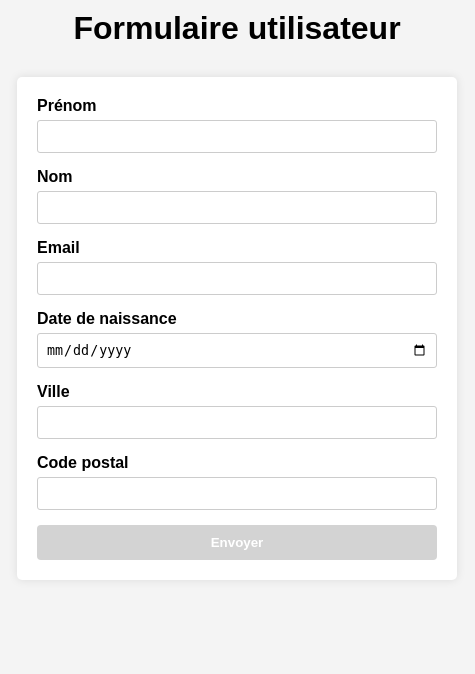
Integration test - User form › should display identity error under firstname on submit
Type "12" into the field labelled "Prénom".
click(237, 136); type("12")  # box [37, 120, 437, 153]
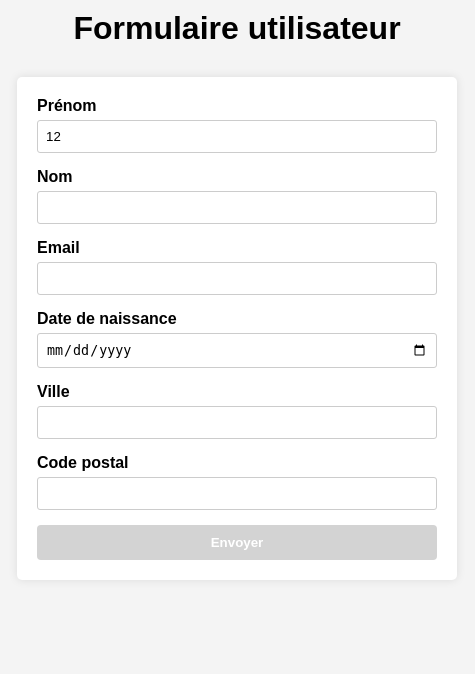
Type "Valid" into the field labelled "Nom".
click(237, 208); type("Valid")  # box [37, 191, 437, 224]
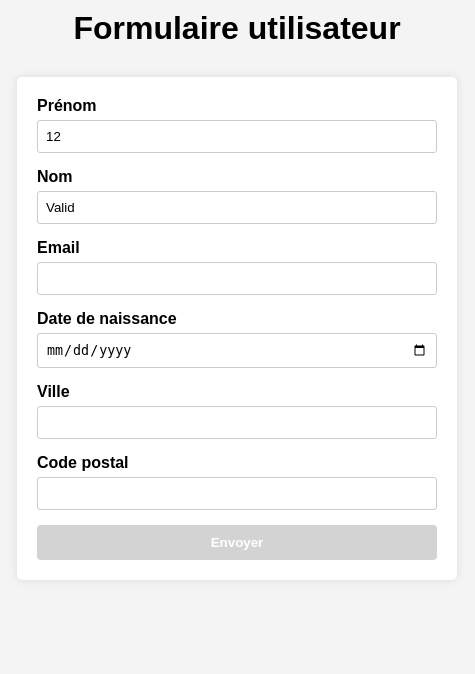
Type "valid@test.com" into the field labelled "Email".
click(237, 278); type("valid@test.com")  # box [37, 262, 437, 295]
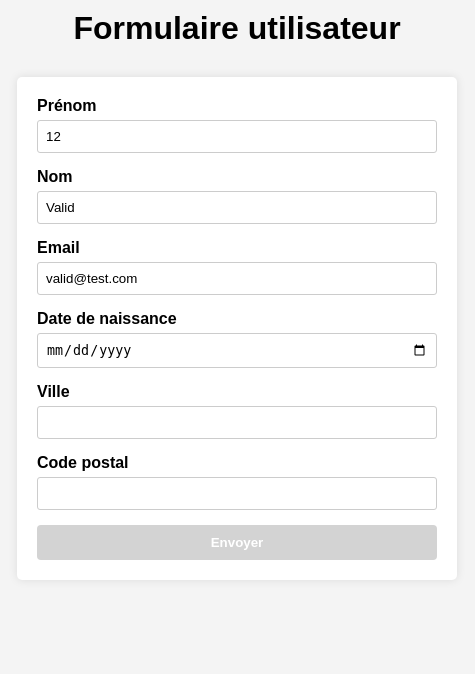
Type "1990-01-01" into the date field labelled "Date de naissance".
click(237, 351); type("1990-01-01")  # box [37, 333, 437, 368]
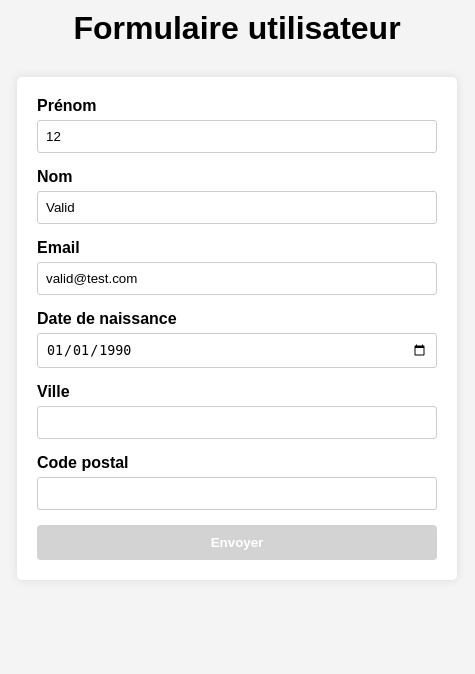
Type "75000" into the field labelled "Code postal".
click(237, 494); type("75000")  # box [37, 477, 437, 510]
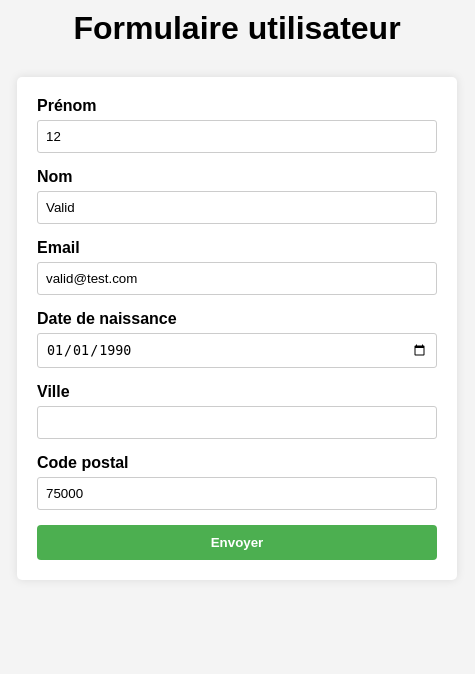
Submit the form from the button, box [37, 525, 437, 560]
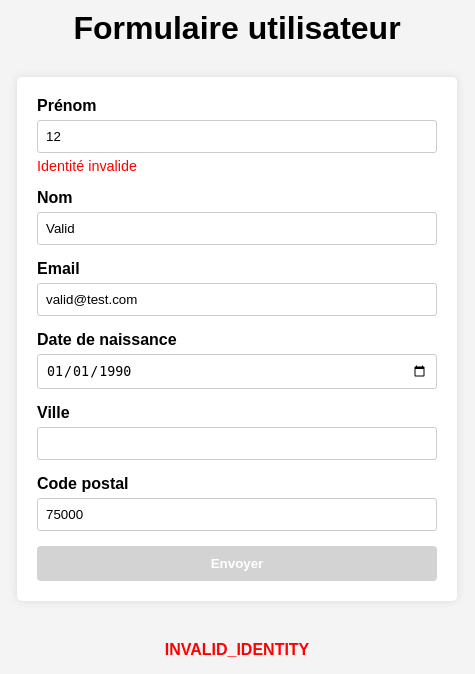
Expected: the text "Identité invalide" is shown, [37, 158, 137, 174]
